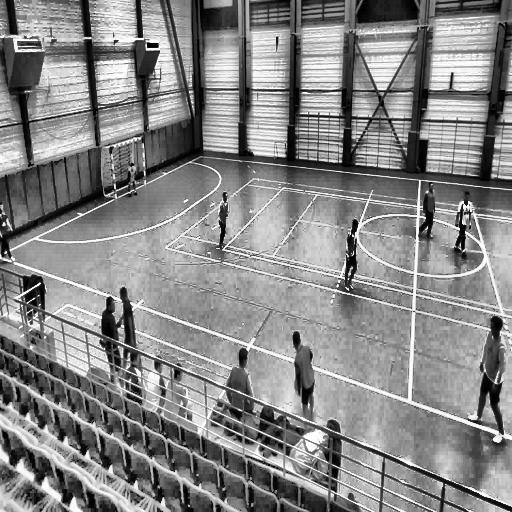ball: (305, 400, 315, 424)
player: (471, 315, 508, 442), (293, 331, 315, 422), (116, 288, 135, 366), (453, 190, 474, 258), (344, 218, 360, 290), (417, 180, 436, 240), (218, 190, 230, 251), (127, 160, 139, 198)
